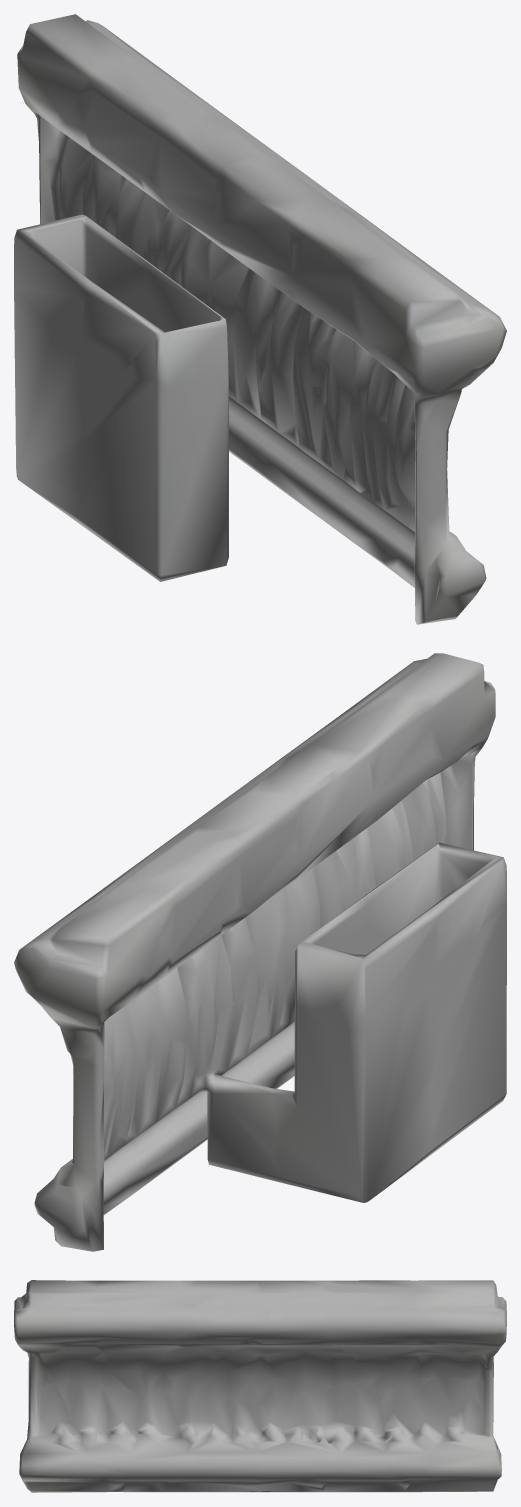
The model's file is 吊顶线条.glb.
3 views of the same model, one above another, from view 1: azimuth 30°, elevation 25°; view 2: azimuth 150°, elevation 25°; view 3: azimuth 270°, elevation 25° (orthographic). The views are drawn at different scales.
Parts seen in each view (by area): view 1: tripo_node_32ff261b-1094-4e1b-8ba3-c5e8522ccde9; view 2: tripo_node_32ff261b-1094-4e1b-8ba3-c5e8522ccde9; view 3: tripo_node_32ff261b-1094-4e1b-8ba3-c5e8522ccde9.
Part boxes in pixels (x1,y1,x2,y2): tripo_node_32ff261b-1094-4e1b-8ba3-c5e8522ccde9: [14, 14, 506, 624]; tripo_node_32ff261b-1094-4e1b-8ba3-c5e8522ccde9: [14, 653, 506, 1251]; tripo_node_32ff261b-1094-4e1b-8ba3-c5e8522ccde9: [14, 1280, 506, 1492].
Size of the model in its own units: 0.3226 by 0.4495 by 0.9991.
Materials: 1 (1 with a texture image).
